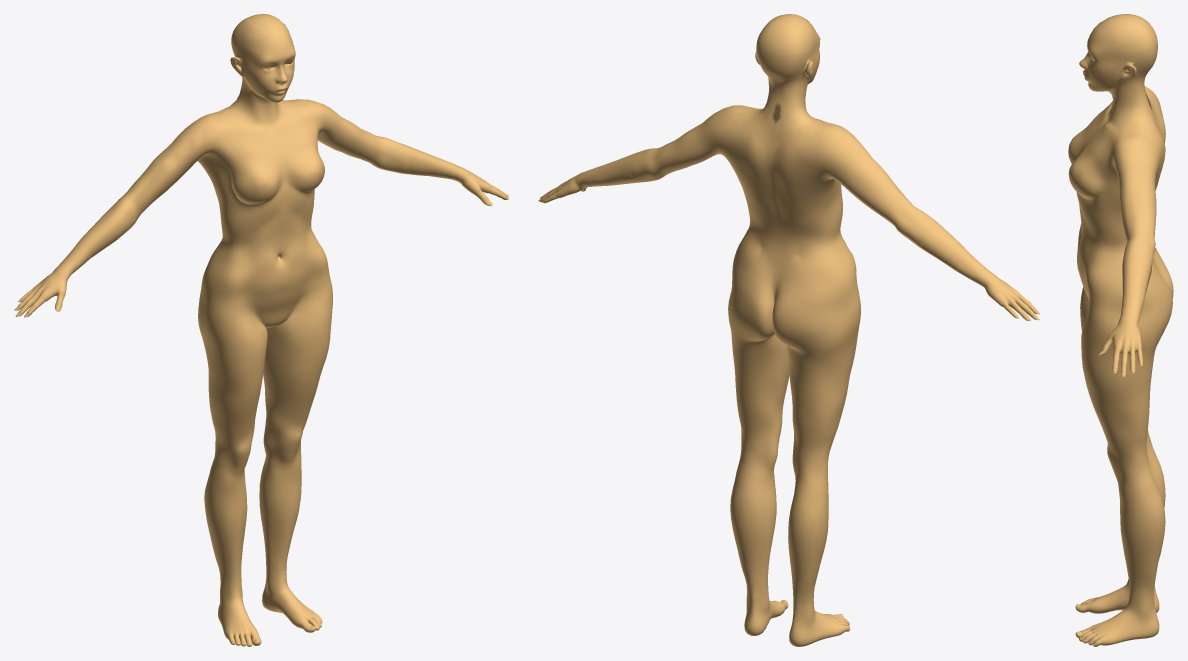
Rendered from female_S_2.glb.
3 views of the same model, side by side, from view 1: azimuth 30°, elevation 25°; view 2: azimuth 150°, elevation 25°; view 3: azimuth 270°, elevation 25° (orthographic).
Visible parts, largest first — view 1: Body; view 2: Body; view 3: Body.
Boxes of the visible parts, x1,y1,x2,y2 form: Body: (17,14,508,646); Body: (539,14,1037,646); Body: (1068,14,1173,646).
Bounding box in the file's own units: 1.58 × 1.85 × 0.2894.
